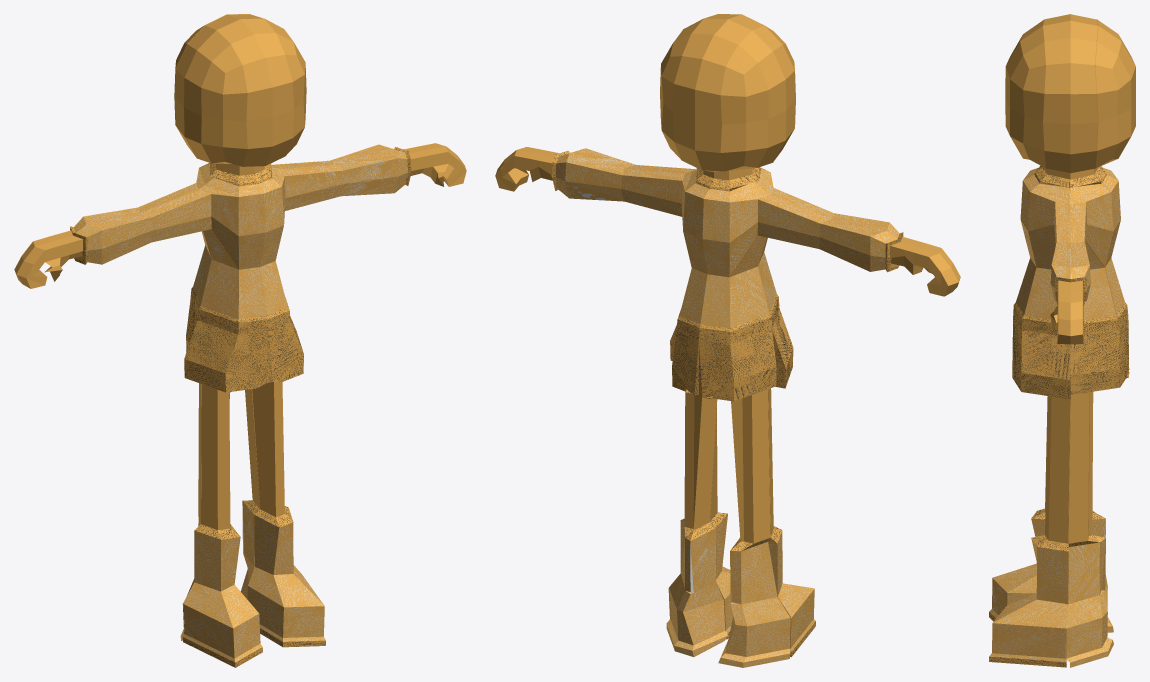
Rendered from EcodoVeu.fbx.
3 views of the same model, side by side, from view 1: azimuth 30°, elevation 25°; view 2: azimuth 150°, elevation 25°; view 3: azimuth 270°, elevation 25° (orthographic). The views are drawn at different scales.
Visible parts, largest first — view 1: Camiseta; view 2: Camiseta; view 3: Camiseta.
Boxes of the visible parts, <box> form: Camiseta: <box>14,14,466,667</box>; Camiseta: <box>495,14,960,667</box>; Camiseta: <box>989,14,1135,667</box>.
Size of the model in its own units: 285 by 370 by 79.62.
